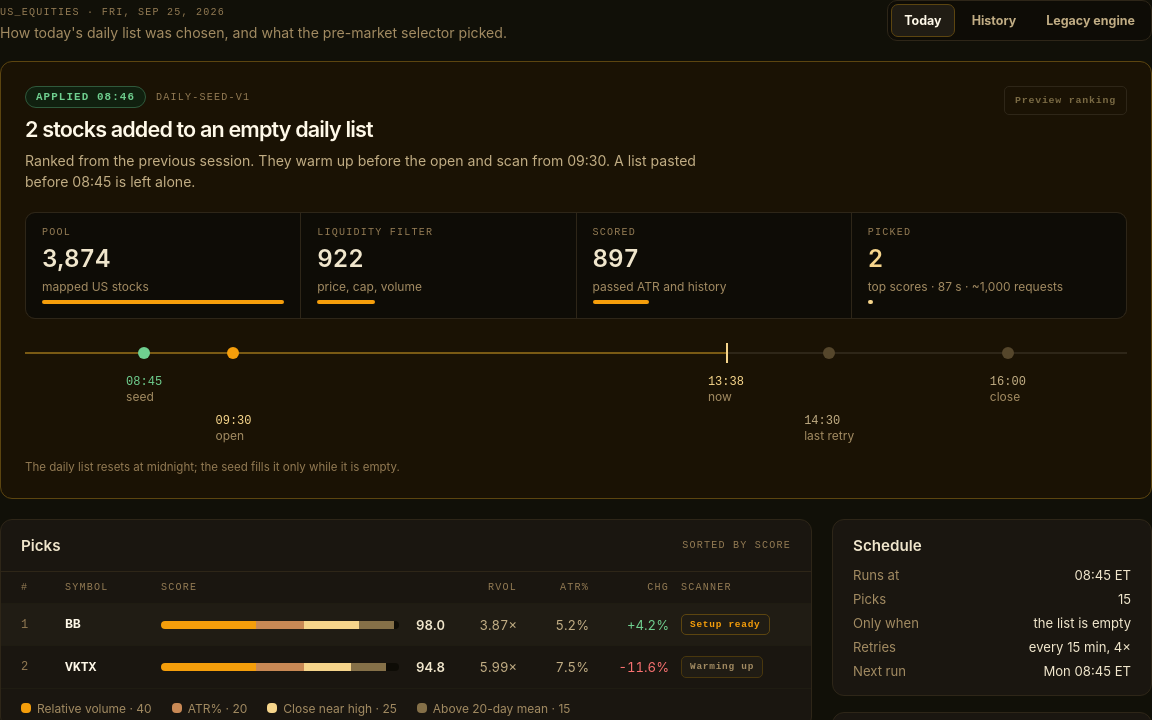
Test: DiscoveryView › shows an applied seed with its funnel, picks and score breakdown
This screenshot has width=1152, height=720.
Expected: the heading "2 stocks added to an empty daily list" is shown, [25,116,373,142]
Expected: the text "3,874" is shown, [42,244,111,273]
What coordinates should you click on to do the following:
click the button "2 VKTX 94.8 5.99× 7.5% -11.6% Warming up"
I would click on:
 (81, 667)
Its box is [1,646,811,689].
(page scrolled)
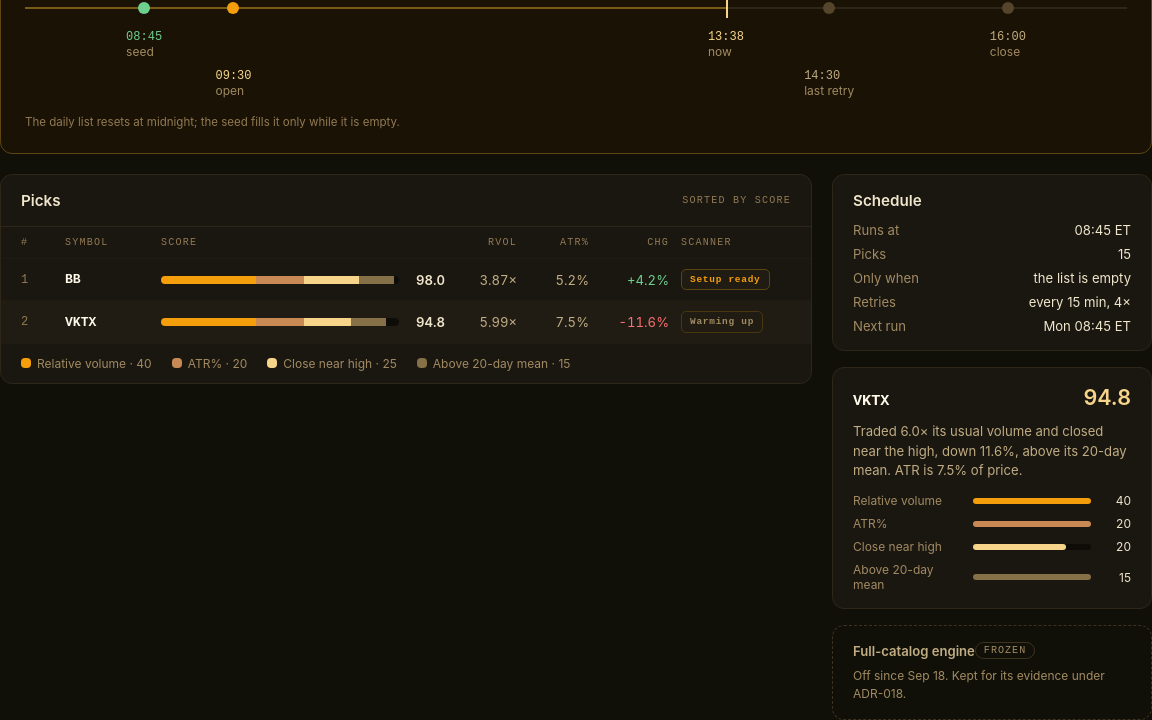
Expected: the text "Traded 6.0× its usual volume" is shown, [853,423,1127,478]
